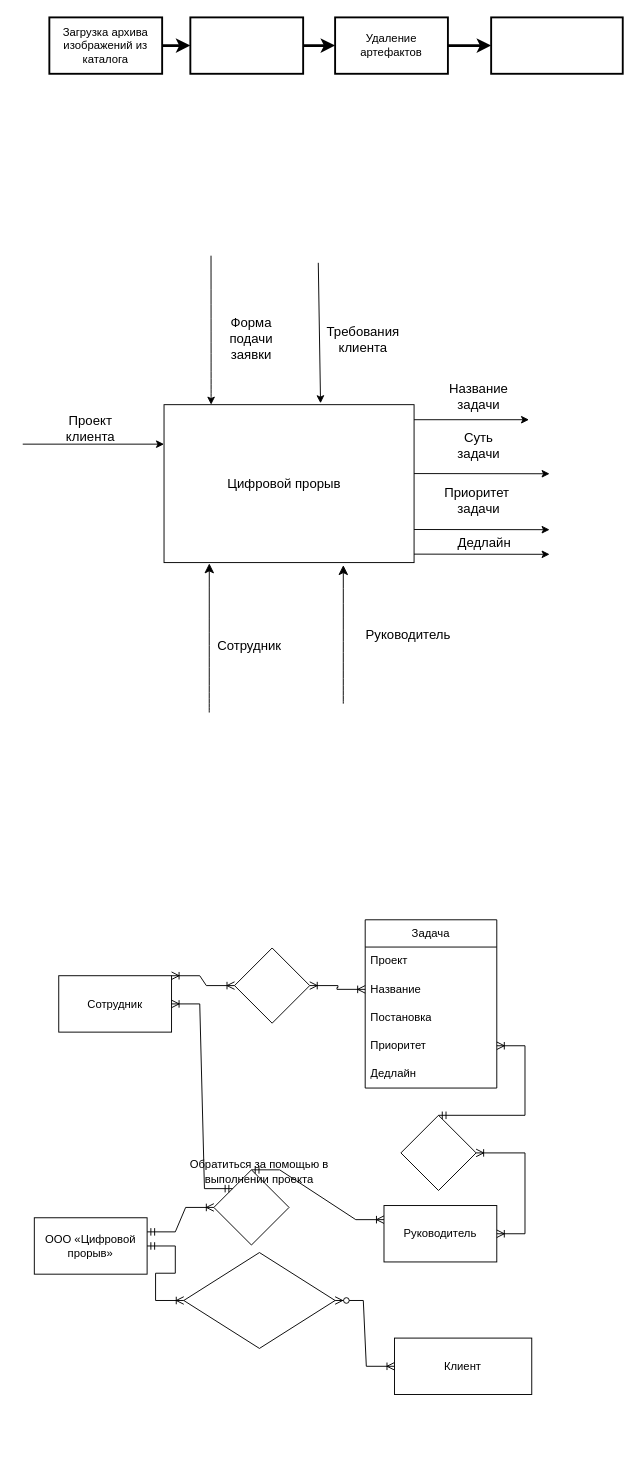
Image size: 640x1458. Some labels were removed from this diagram. Each missing label, with the centre of its shape:
"Имеет" belongs at (272,985).
"Повышение качества изображений" belongs at (246,45).
"Работает в" belongs at (251,1207).
"Сотсавляет" belongs at (438,1152).
"Формирование отчета с метриками + улучшенные файлы/API-интеграция" belongs at (556,45).
